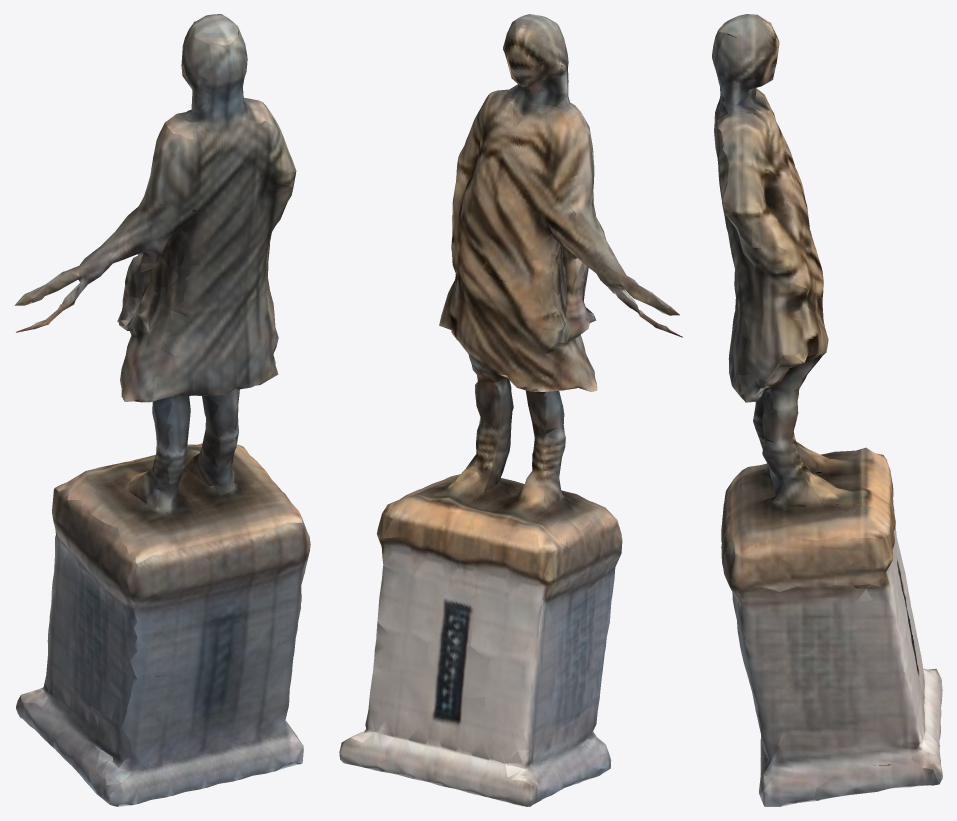
Rendered from soyanggang-cheonyeo.glb.
3 renders of one model, left to right at view 1: azimuth 30°, elevation 25°; view 2: azimuth 150°, elevation 25°; view 3: azimuth 270°, elevation 25°, orthographic. The views are drawn at different scales.
Visible parts, largest first — view 1: world; view 2: world; view 3: world.
Boxes of the visible parts, x1=… form: world: x1=14, y1=14, x2=310, y2=806; world: x1=339, y1=14, x2=682, y2=806; world: x1=712, y1=14, x2=942, y2=806.
Bounding box in the file's own units: 0.3727 × 0.9603 × 0.2694.
1 material, 1 textured.
